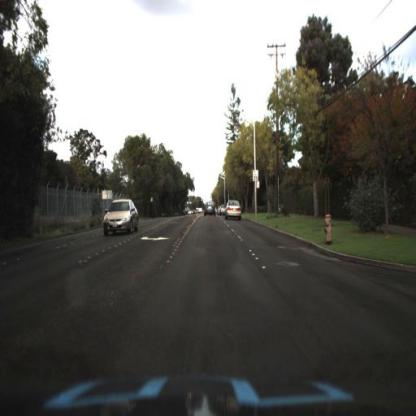car: (102, 199, 140, 239), (223, 200, 243, 223), (202, 199, 218, 222), (219, 204, 228, 216)
